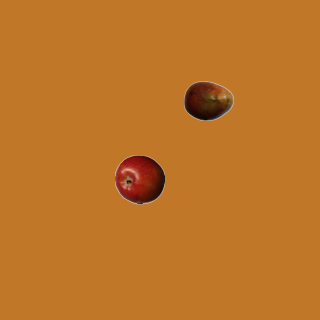Apple Braeburn: (114, 154, 164, 204)
Mango Red: (183, 75, 233, 125)
